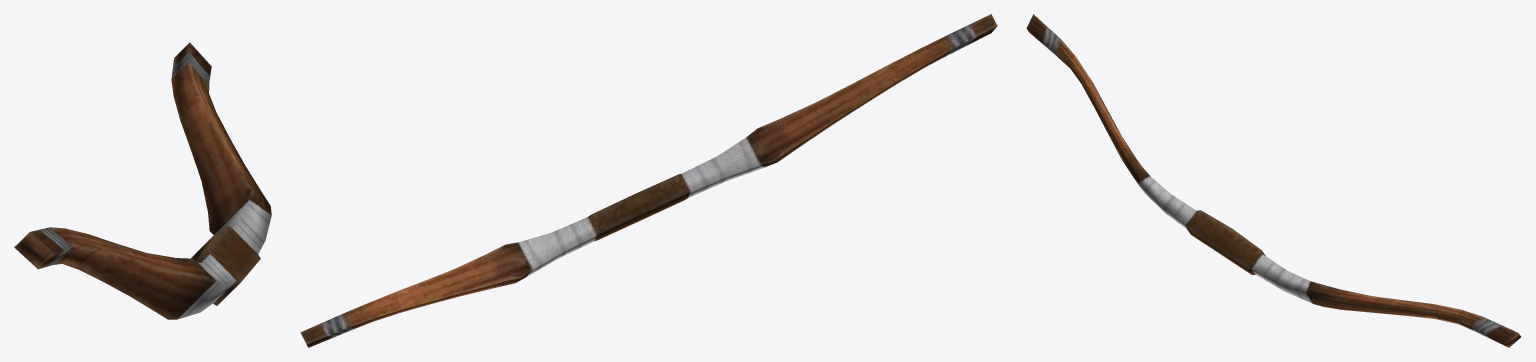
Rendered from rangedweapon-copperweapons.glb.
The picture shows the model from 3 angles, left to right: view 1: azimuth 30°, elevation 25°; view 2: azimuth 150°, elevation 25°; view 3: azimuth 270°, elevation 25°; orthographic projection. The views are drawn at different scales.
Bounding box in the file's own units: 1.03 × 0.5229 × 1.32.
1 material, 1 textured.
